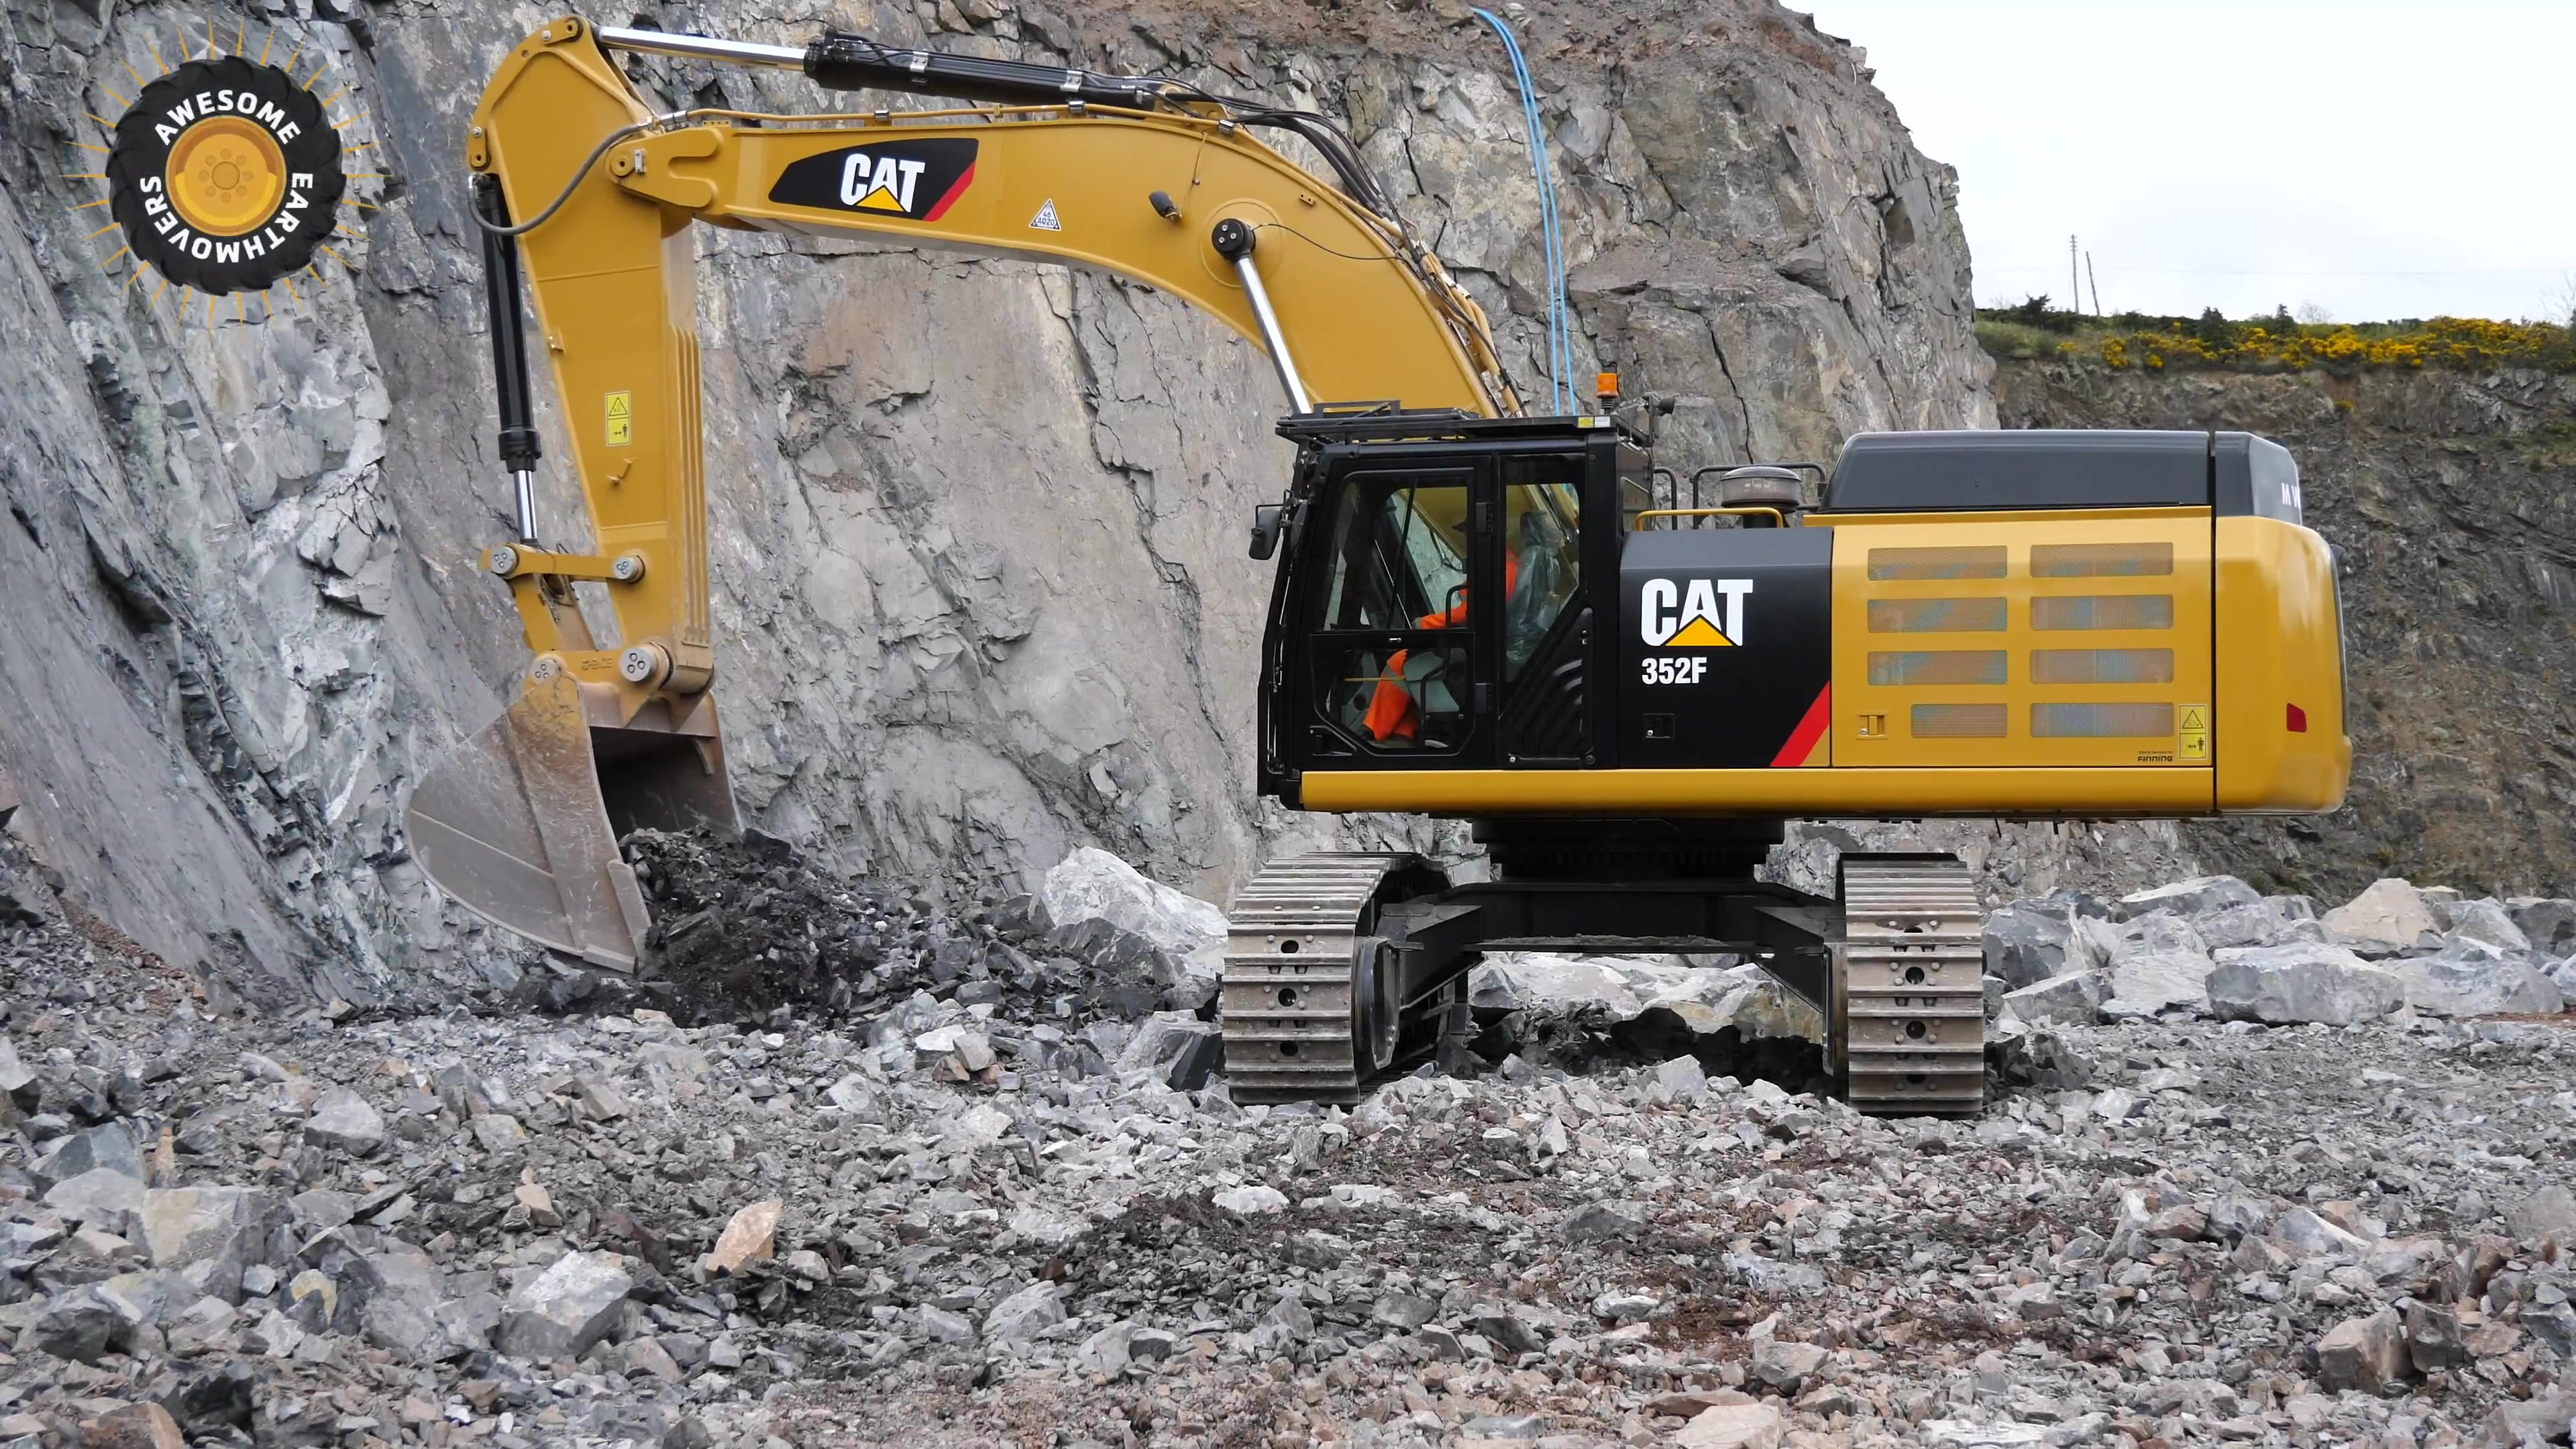body: (1254, 398, 2350, 816)
hoe: (400, 672, 738, 977)
wheels: (1219, 840, 1985, 1100)
